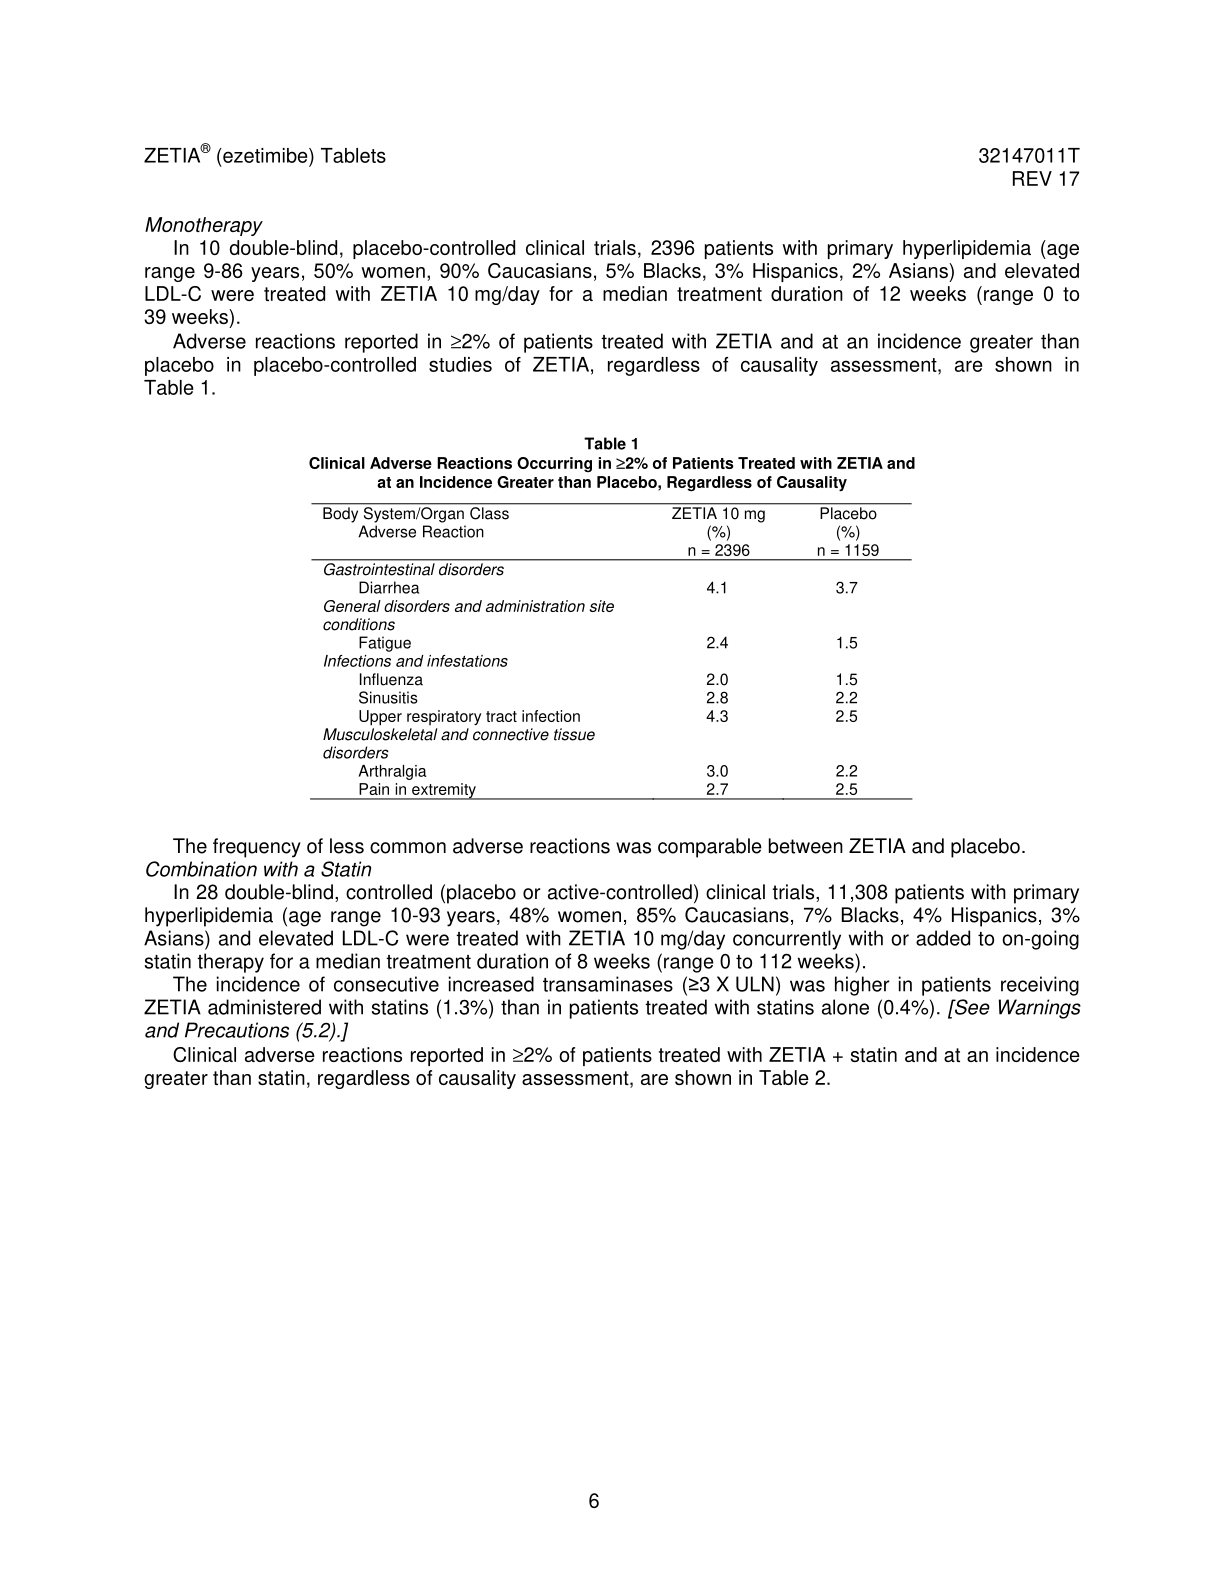partial_lined: (310, 500, 917, 801)
